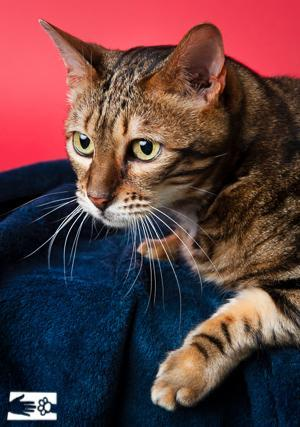bengal: (36, 13, 245, 236)
